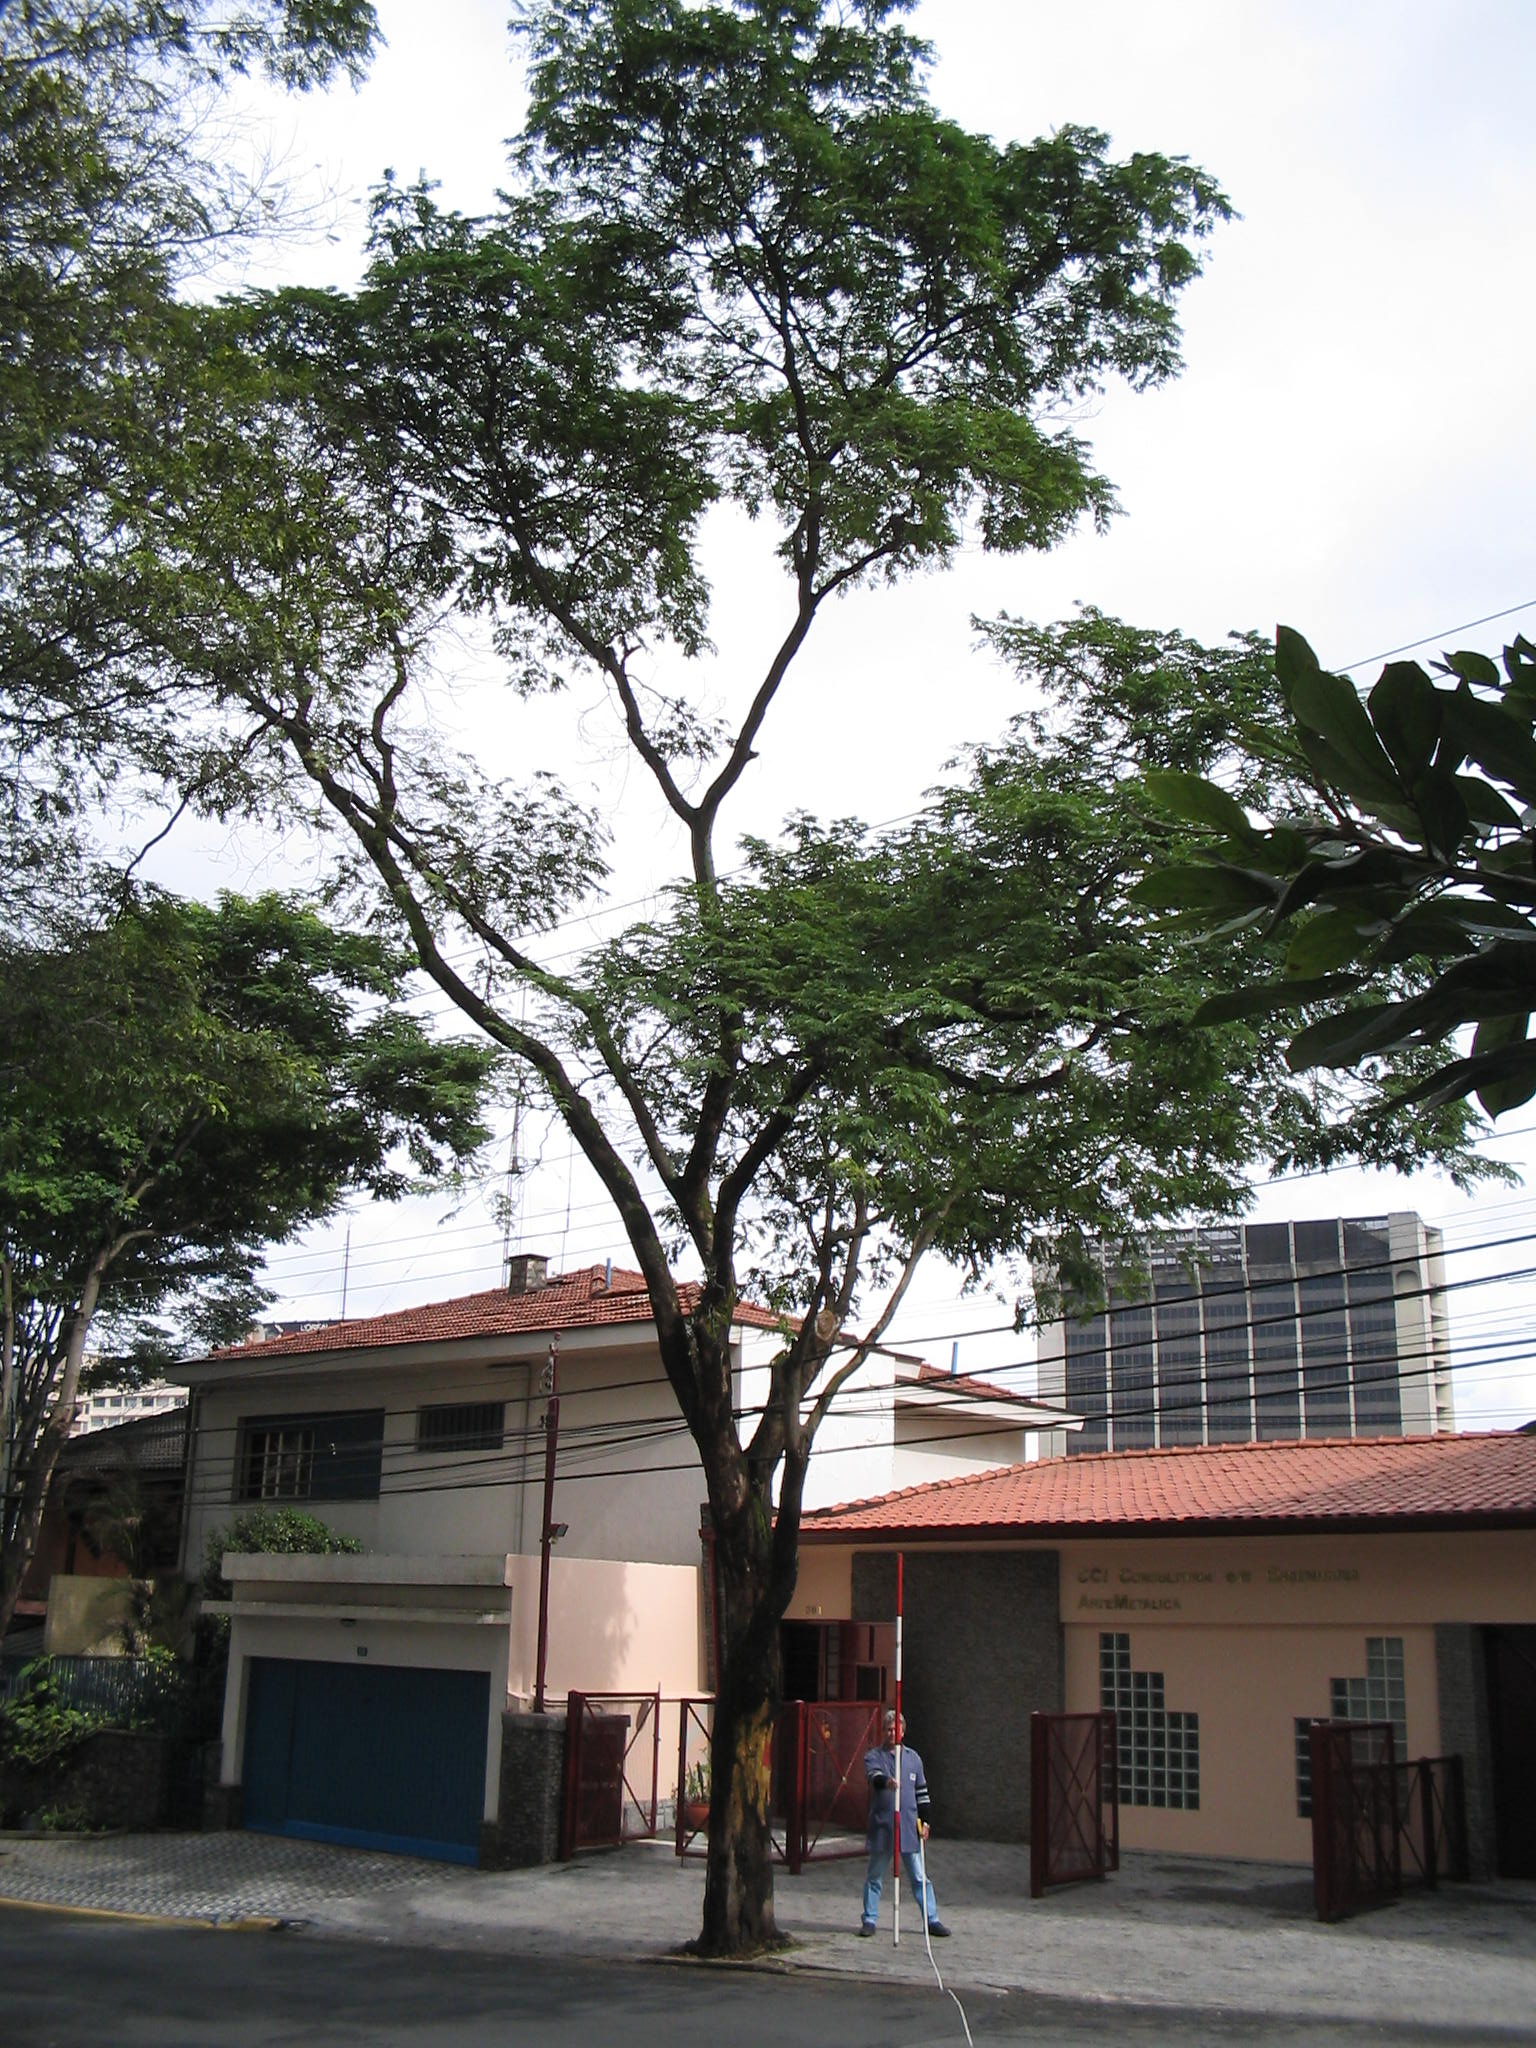crown: (61, 6, 1517, 1319)
stem: (666, 1522, 824, 1956)
stick: (878, 1548, 920, 1946)
tree: (53, 2, 1521, 1967)
